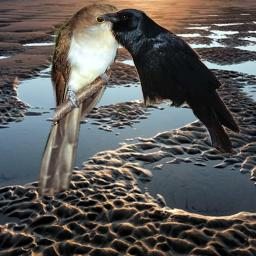Crow: (96, 8, 241, 155)
Cuckoo: (38, 2, 132, 196)
